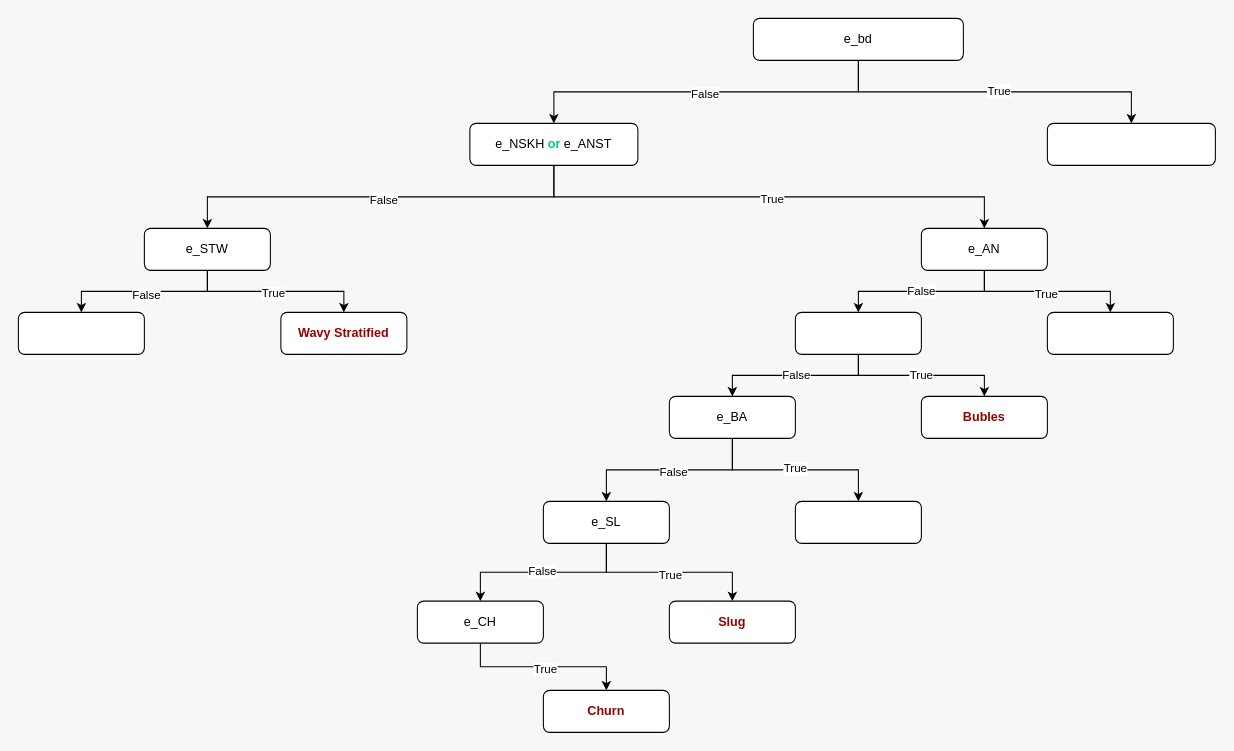
Image size: 1234x751. Some labels were removed from this diagram. The centre of each missing label's shape, as x and y in pixels:
"Annular" belongs at (1109,332).
"Dispersed Bubles" belongs at (1130,143).
"e_B" belongs at (857,332).
"Elongated Bubles" belongs at (857,521).
"Smoth Stratified" belongs at (80,332).
